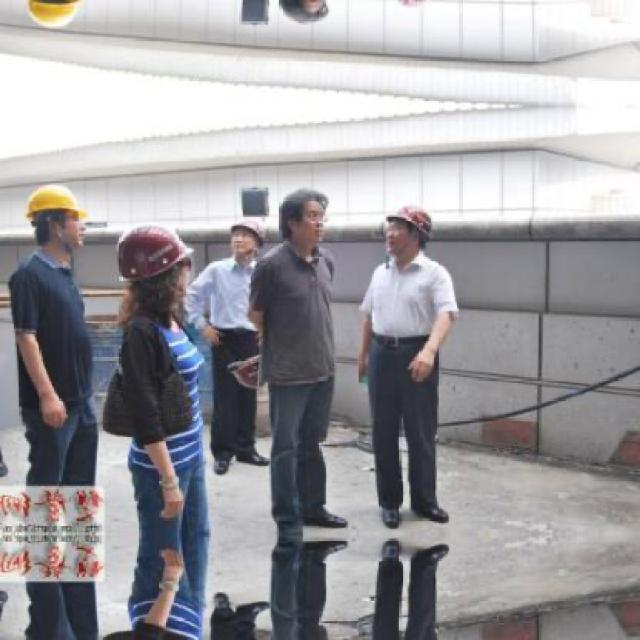con casco: (118, 216, 203, 329), (386, 196, 457, 294), (27, 168, 97, 253)
sin casco: (268, 148, 337, 264)
